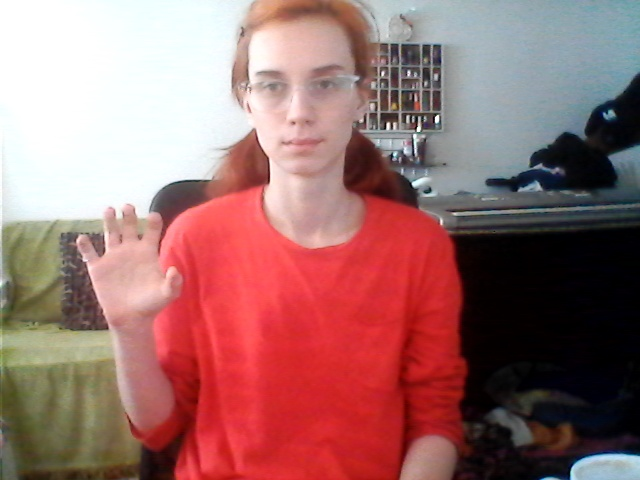budova: (63, 202, 191, 348)
